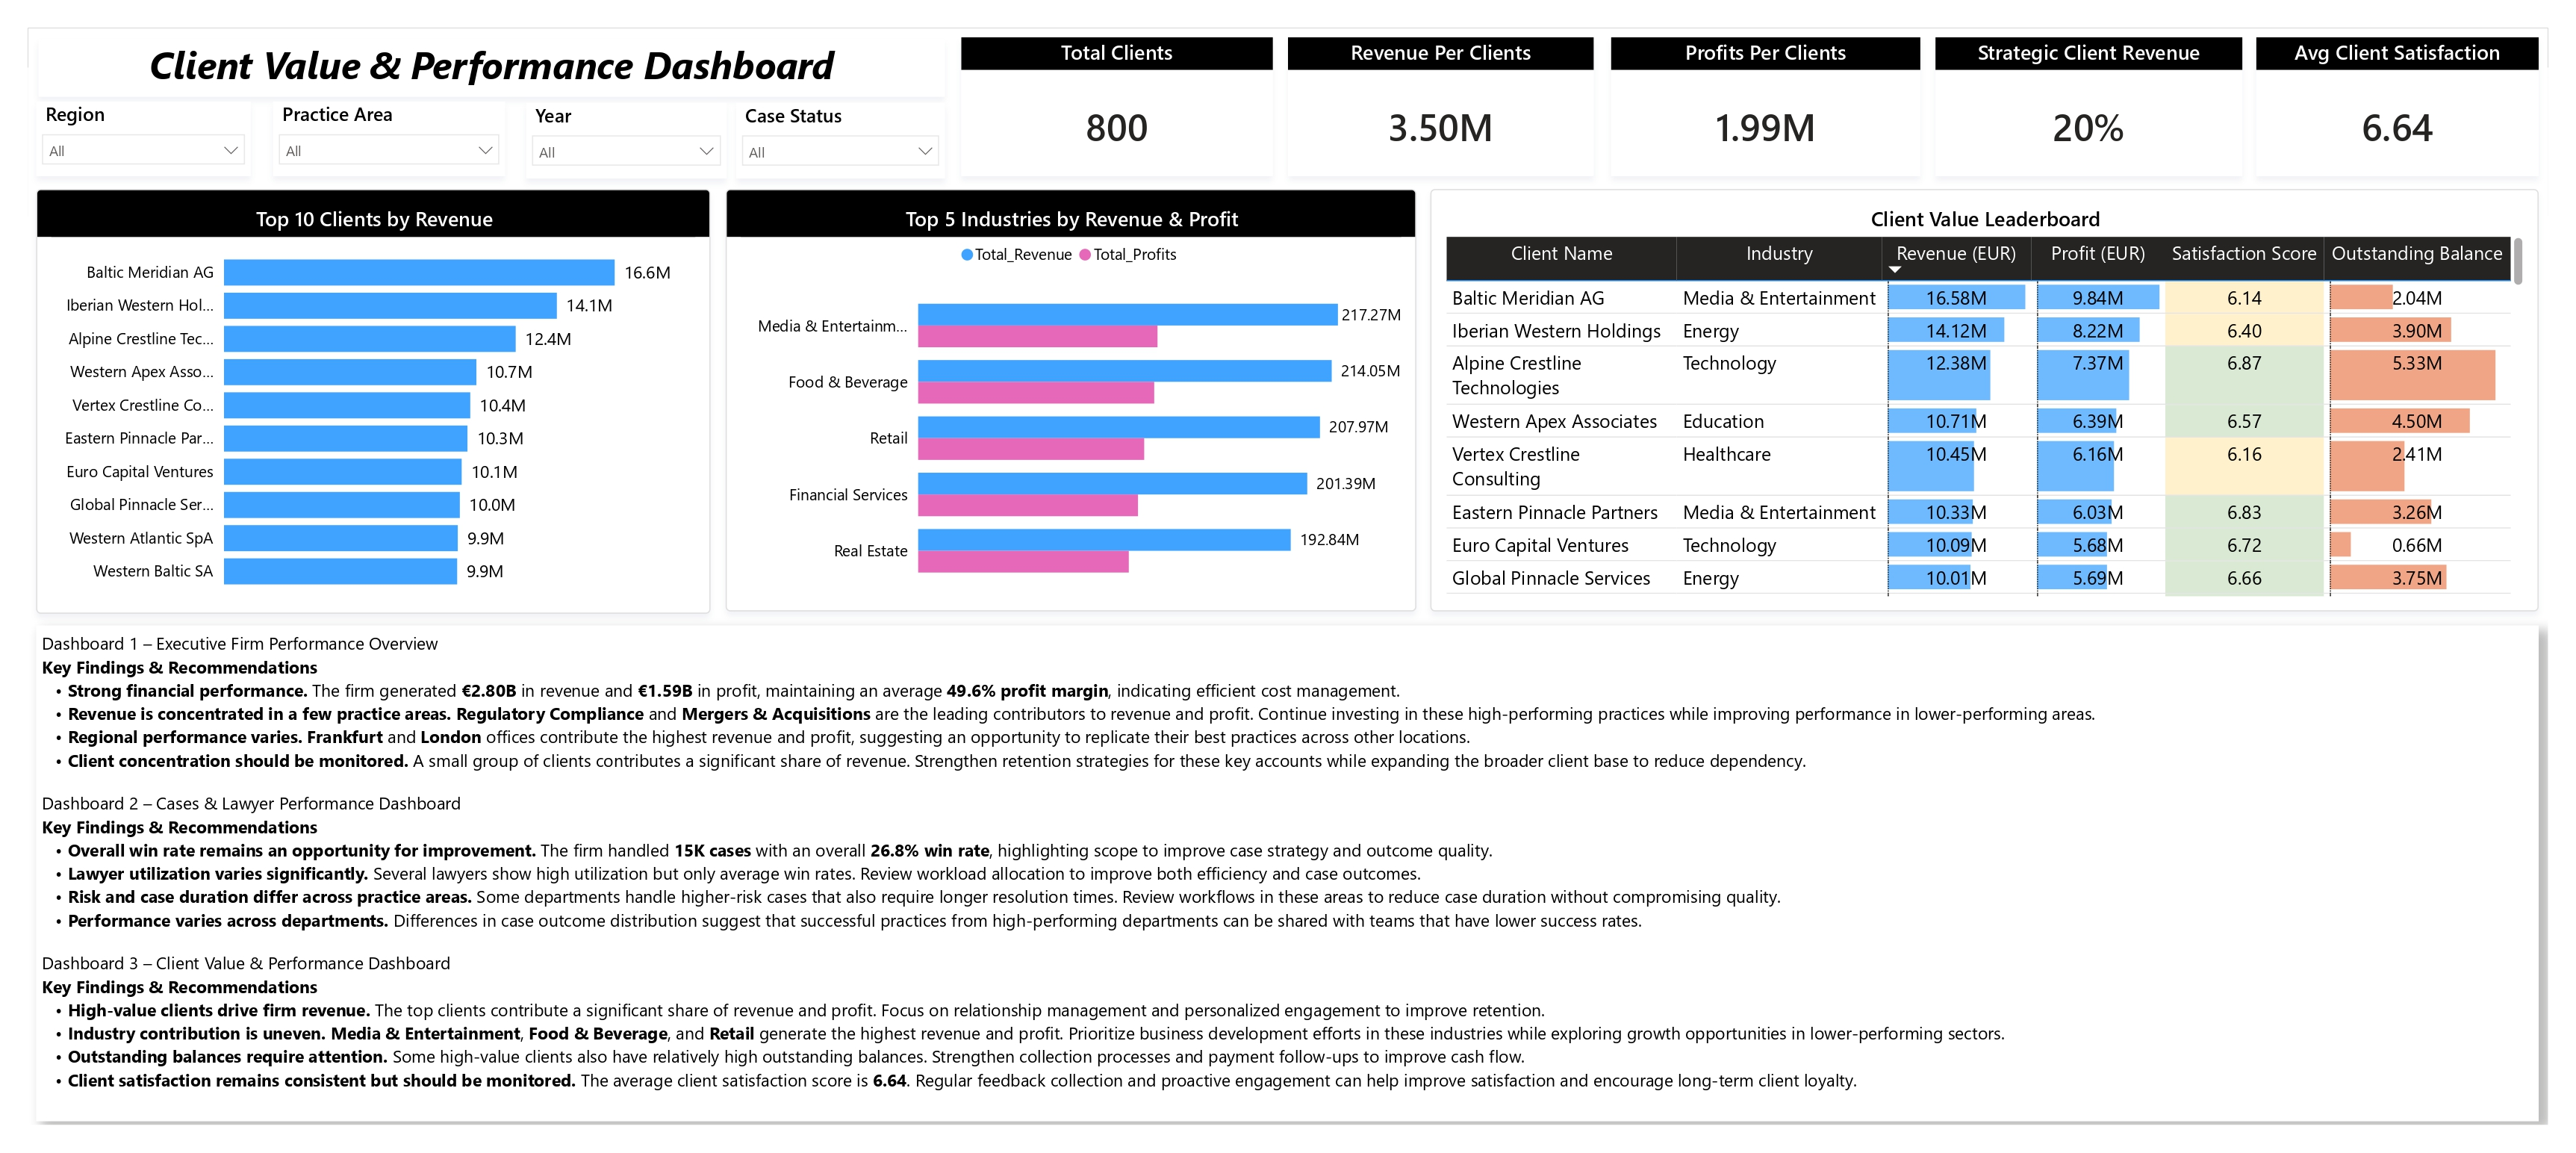

Layout of this report page (visuals, bound fields, positions):
{"tool":"powerbi","page":{"name":"Dashboard_3","canvas":[2160,940],"ordinal":2},"visuals":[{"type":"cardVisual","title":"Revenue Per Clients","fields":{"Data":["Key_Metrics.Revenue_Per_clients"]},"box":[1080,8.3,261.7,118.3],"z":0},{"type":"cardVisual","title":"Avg Client Satisfaction","fields":{"Data":["Avg(Fact_Cases.Client Satisfaction Score)"]},"box":[1910,8.3,241.7,118.3],"z":1000},{"type":"cardVisual","title":"Strategic Client Revenue","fields":{"Data":["Key_Metrics.strategic_client_Revenue_%"]},"box":[1635,8.3,263.3,118.3],"z":2000},{"type":"cardVisual","title":"Total Clients","fields":{"Data":["Count(Dim_Client.Client ID)"]},"box":[800,8.3,266.7,118.3],"z":3000},{"type":"textbox","box":[8.6,8.6,777.1,50],"z":4000},{"type":"slicer","fields":{"Values":["Dim_Office.Region"]},"box":[7.1,62.9,184.3,64.3],"z":5000},{"type":"slicer","fields":{"Values":["Dim_Case.Practice Area"]},"box":[210,62.9,198.6,64.3],"z":6000},{"type":"slicer","fields":{"Values":["Dim_Date.Date.Variation.Date Hierarchy.Year"]},"box":[427.1,64.3,171.4,64.3],"z":7000},{"type":"slicer","fields":{"Values":["Dim_Case.Case Status"]},"box":[607.1,64.3,178.6,64.3],"z":8000},{"type":"barChart","title":"Top 10 Clients by Revenue","fields":{"Category":["Dim_Client.Client Name"],"Y":["Key_Metrics.Total_Revenue"]},"box":[6.7,138.3,578.3,363.3],"z":9000},{"type":"clusteredBarChart","title":"Top 5 Industries by Revenue & Profit","fields":{"Category":["Dim_Client.Industry"],"Y":["Key_Metrics.Total_Revenue","Key_Metrics.Total_Profits"]},"box":[598.3,138.3,591.7,361.7],"z":10000},{"type":"tableEx","title":"Client Value Leaderboard","fields":{"Values":["Dim_Client.Client Name","Dim_Client.Industry","Sum(Fact_Cases.Revenue (EUR))","Sum(Fact_Cases.Profit (EUR))","Avg(Fact_Cases.Client Satisfaction Score)","Key_Metrics.Total_Outstanding_balance"]},"box":[1201.7,138.3,950,361.7],"z":11000},{"type":"cardVisual","title":"Profits Per Clients","fields":{"Data":["Key_Metrics.Profit_per_client"]},"box":[1356.7,8.3,265,118.3],"z":12000},{"type":"textbox","box":[6.7,511.7,2145,425],"z":13000}]}

Visuals, with their boxes on the page's 2160x940 design canvas (x1, y1, x2, y2). These are canvas units, not pixel positions in the 2576x1153 screenshot, which may show the page scaled, cropped or inside an application window:
"Revenue Per Clients" cardVisual: detection(1080, 8, 1342, 127)
"Avg Client Satisfaction" cardVisual: detection(1910, 8, 2152, 127)
"Strategic Client Revenue" cardVisual: detection(1635, 8, 1898, 127)
"Total Clients" cardVisual: detection(800, 8, 1067, 127)
textbox: detection(9, 9, 786, 59)
slicer - Dim_Office.Region: detection(7, 63, 191, 127)
slicer - Dim_Case.Practice Area: detection(210, 63, 409, 127)
slicer - Dim_Date.Date.Variation.Date Hierarchy.Year: detection(427, 64, 598, 129)
slicer - Dim_Case.Case Status: detection(607, 64, 786, 129)
"Top 10 Clients by Revenue" barChart: detection(7, 138, 585, 502)
"Top 5 Industries by Revenue & Profit" clusteredBarChart: detection(598, 138, 1190, 500)
"Client Value Leaderboard" tableEx: detection(1202, 138, 2152, 500)
"Profits Per Clients" cardVisual: detection(1357, 8, 1622, 127)
textbox: detection(7, 512, 2152, 937)
